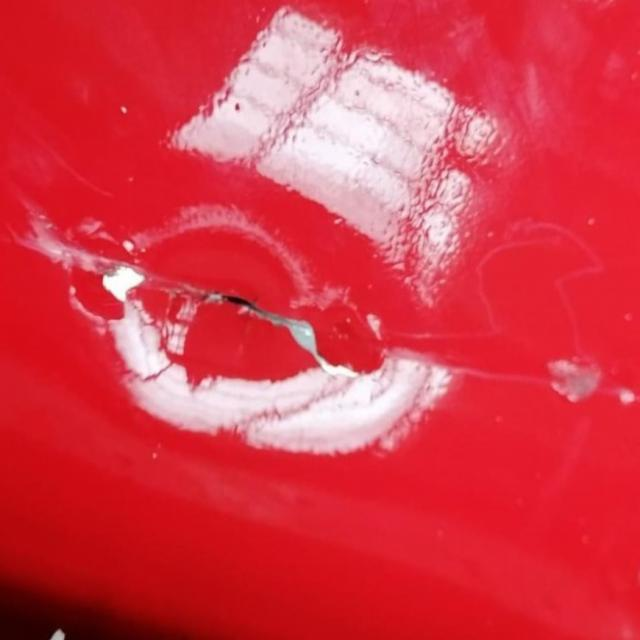crack: (60, 208, 539, 412)
